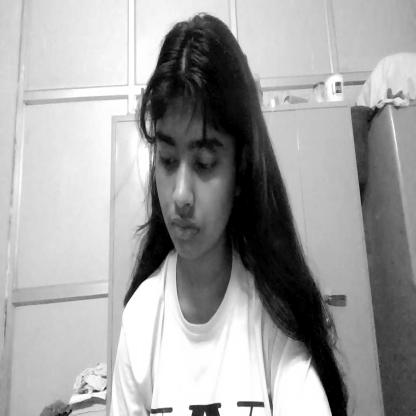Distracted: (144, 15, 255, 262)
